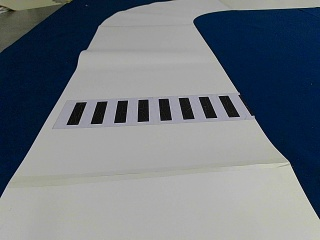crosswalk: (66, 97, 239, 125)
